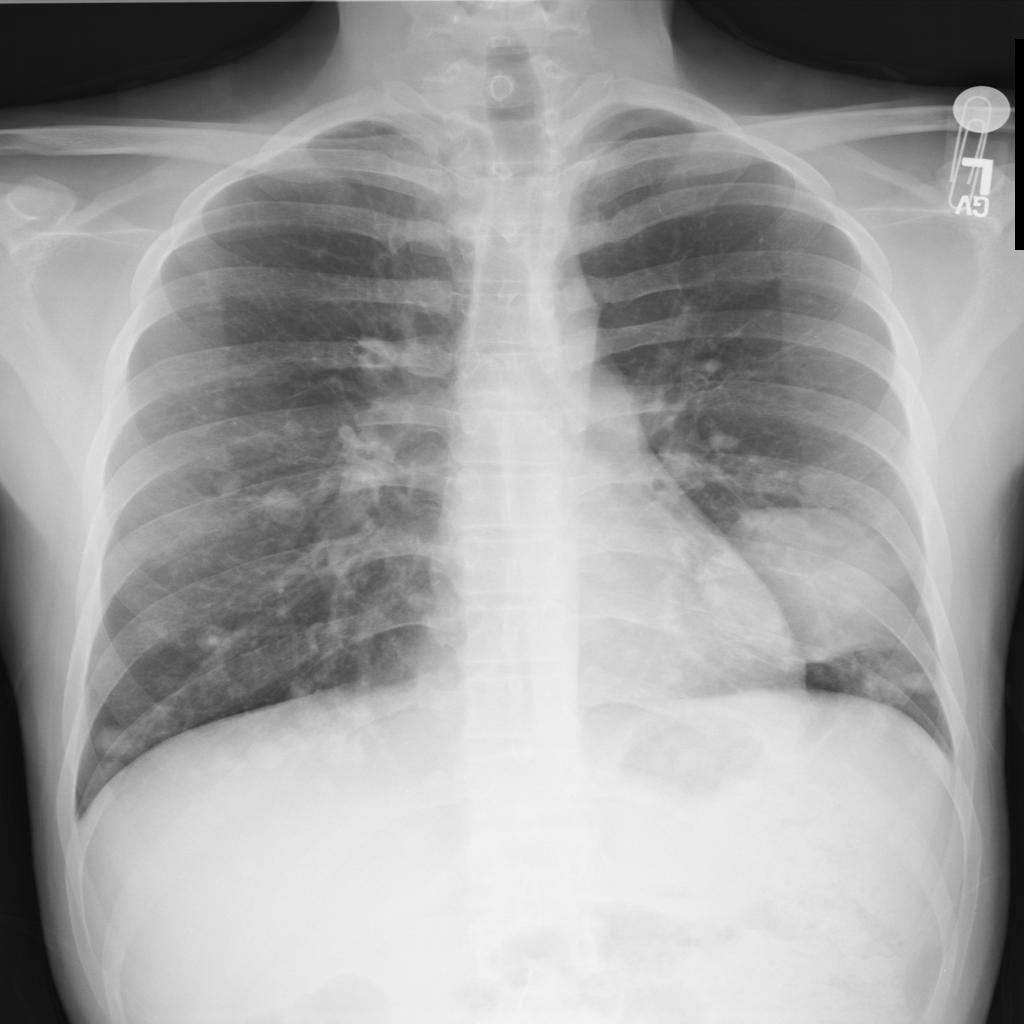nodule: (670, 499, 921, 675), (81, 712, 155, 780), (232, 723, 308, 788), (244, 475, 321, 535), (121, 604, 180, 650), (183, 613, 240, 657), (190, 376, 251, 417), (195, 452, 252, 495), (696, 422, 755, 463)
